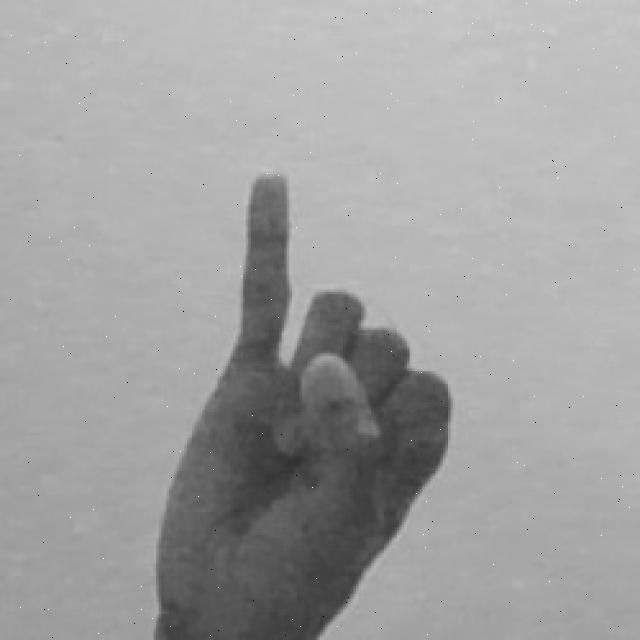I: (150, 169, 455, 640)
